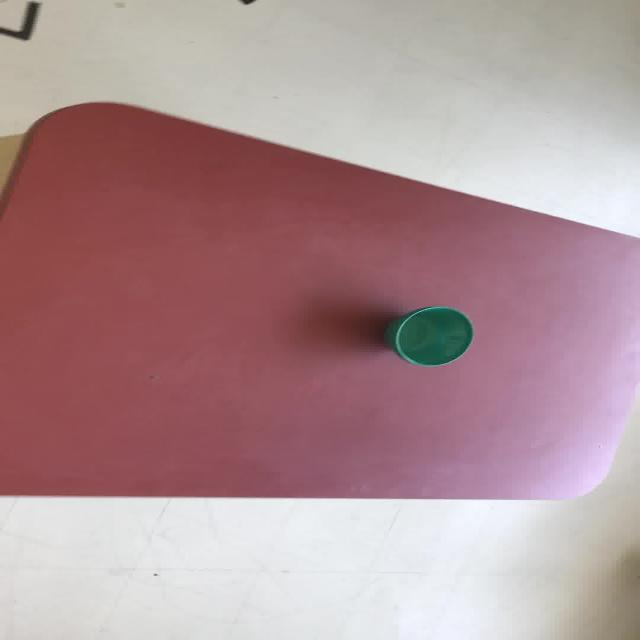bowl: (382, 305, 474, 366)
